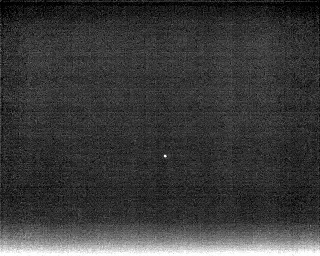BIRD: (161, 151, 169, 162)
